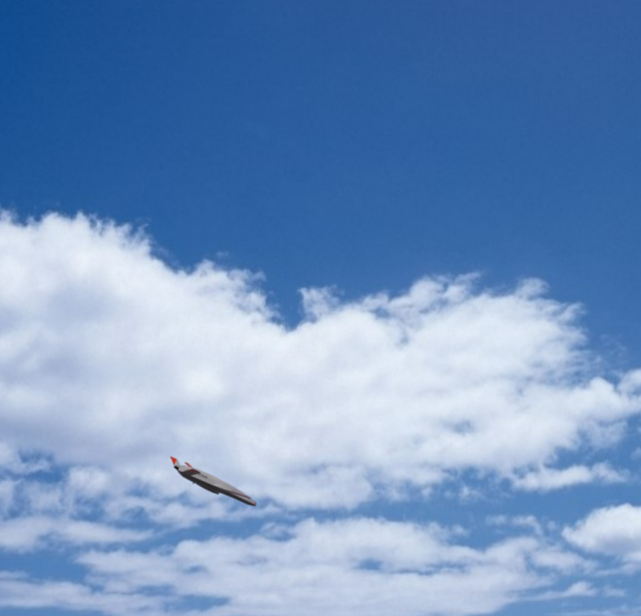military drone: (170, 455, 257, 506)
